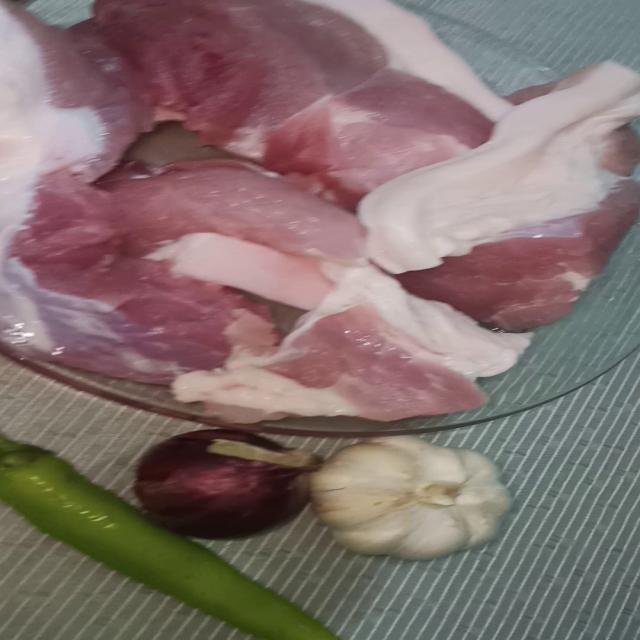chili_pepper: (0, 396, 376, 640)
garlic: (285, 430, 522, 553)
onion: (121, 398, 320, 560)
pork: (36, 0, 516, 185), (0, 170, 344, 360), (376, 80, 640, 322), (0, 0, 181, 197)
